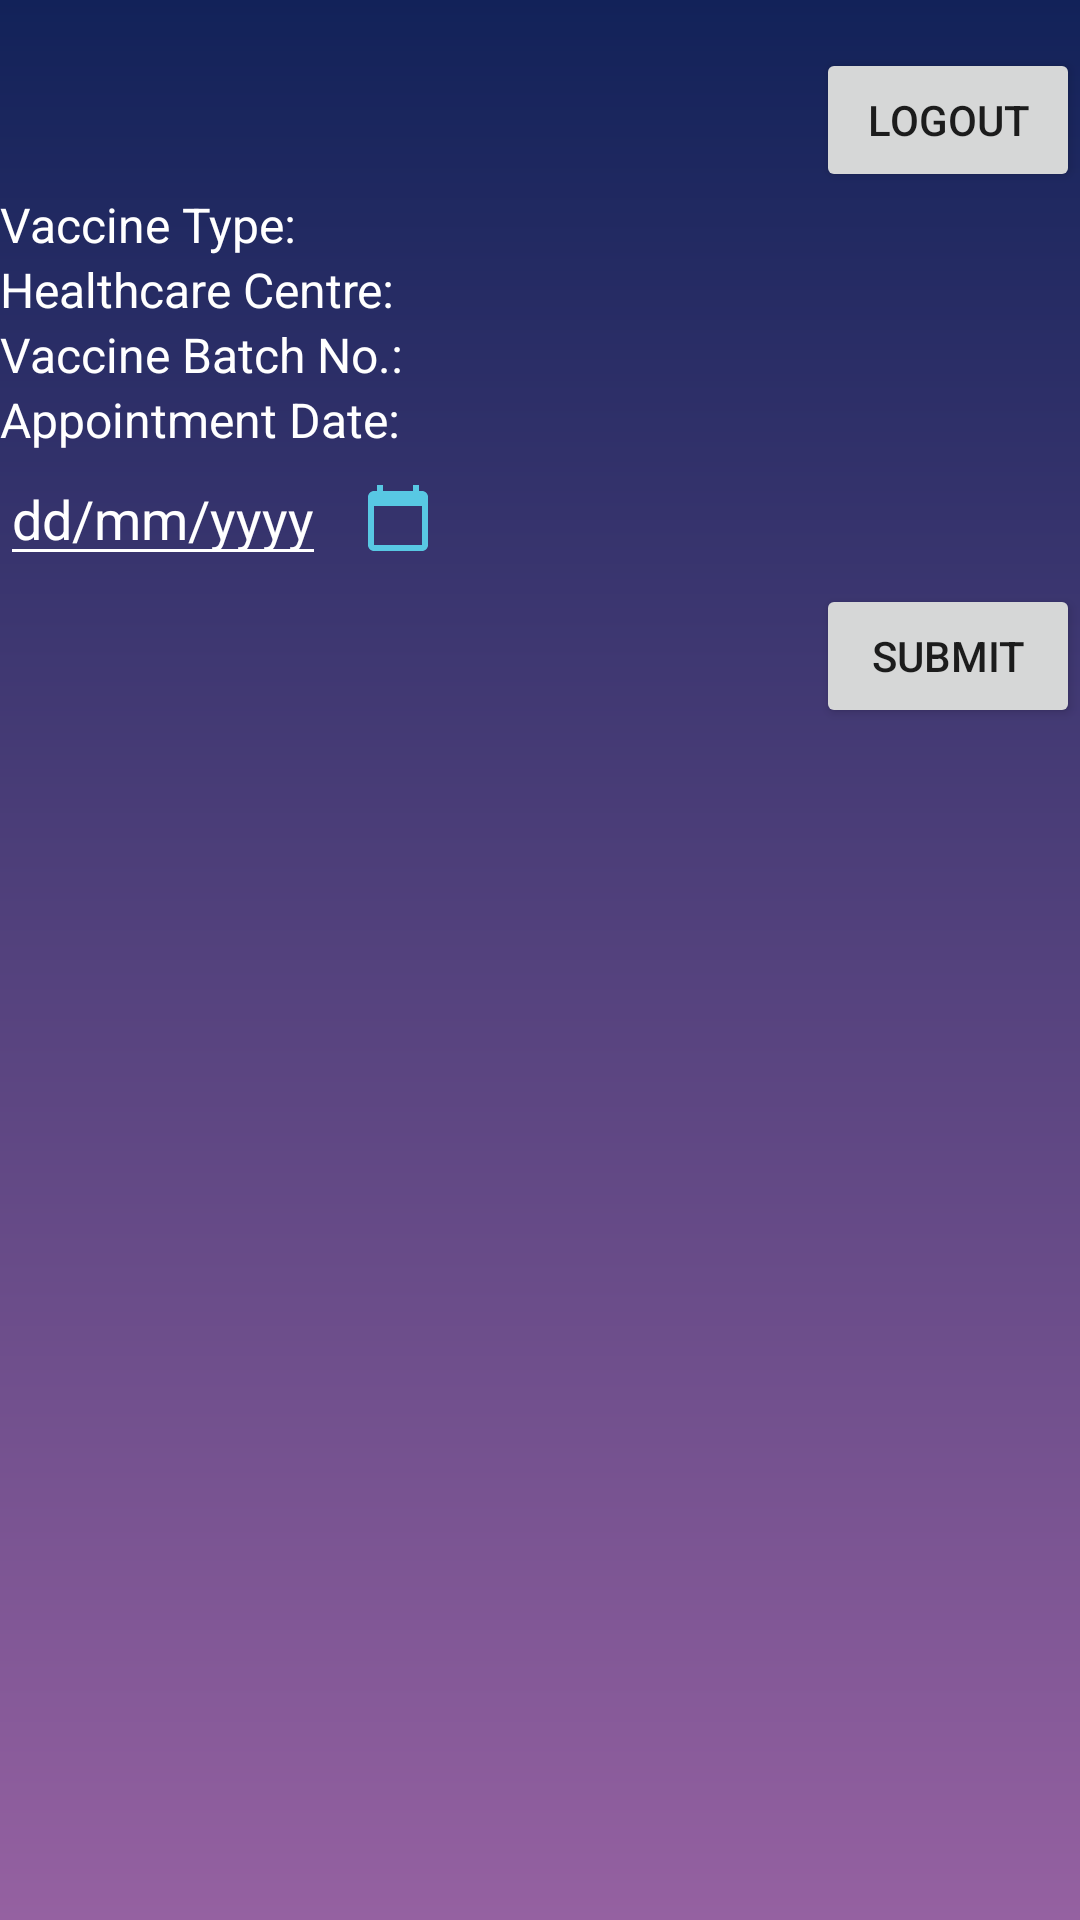

Icons on this 1080px x 1920px Android screen, each with its box as Rect(x1, y1, x2, y2):
calendar: Rect(368, 485, 428, 551)
